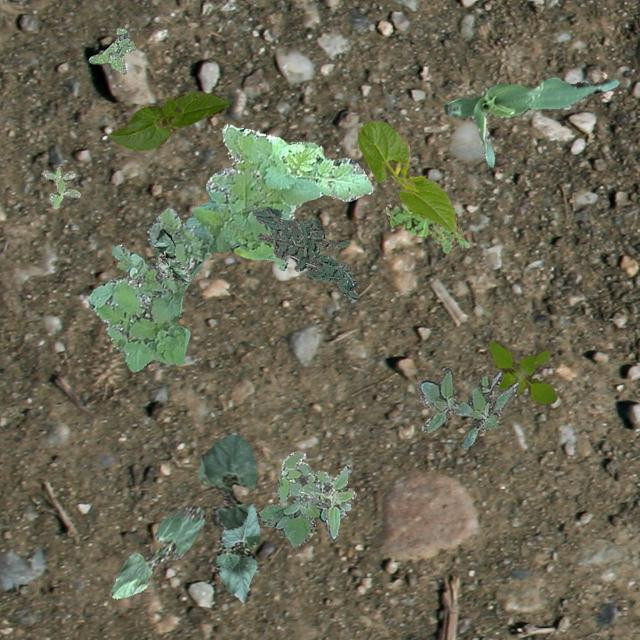crop: (442, 76, 618, 166), (356, 120, 456, 232), (108, 504, 204, 598), (108, 90, 230, 150), (198, 431, 256, 528), (214, 502, 260, 602), (152, 228, 188, 282)
weed: (88, 124, 372, 370), (252, 206, 358, 298), (416, 366, 518, 448), (276, 450, 356, 540), (486, 338, 556, 404), (258, 494, 344, 546), (384, 200, 468, 252), (88, 26, 136, 74), (40, 166, 80, 207)
